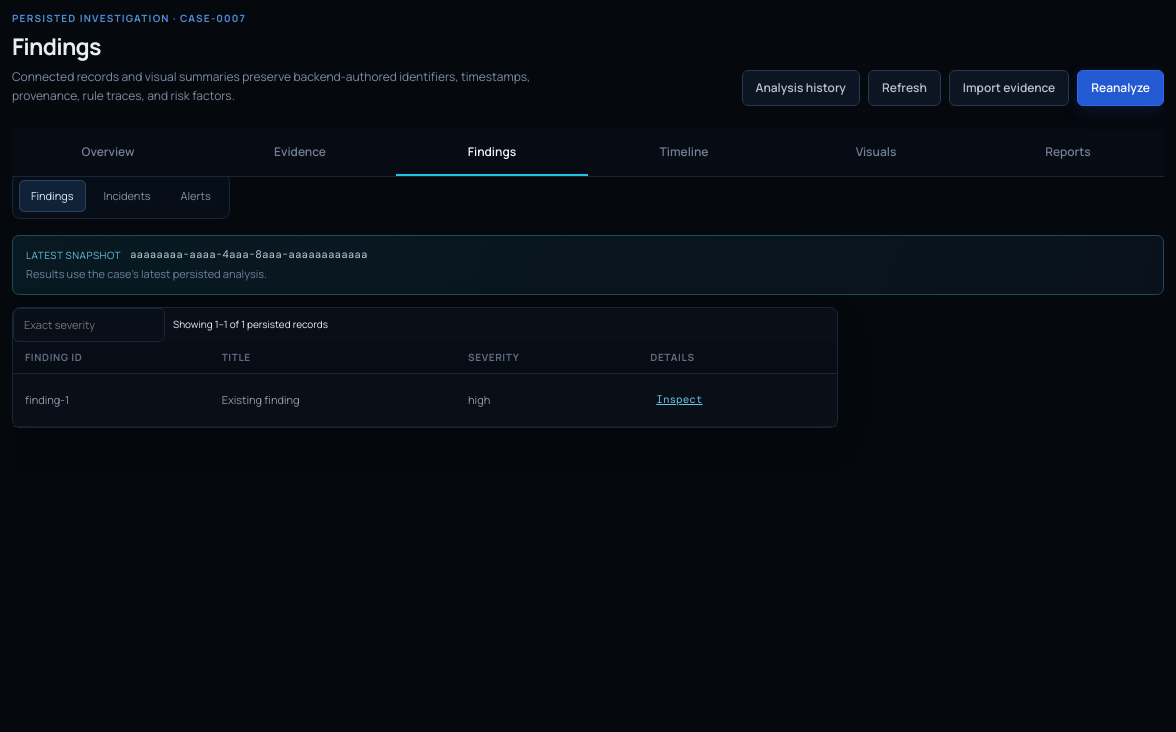
ConnectedCaseWorkspaceV3Page › recovers from reanalysis failure without hiding current results
Check: the text "Existing finding" is shown, box [210, 374, 456, 426]
Click the button "Reanalyze" at (1121, 88), box [1077, 70, 1164, 106]
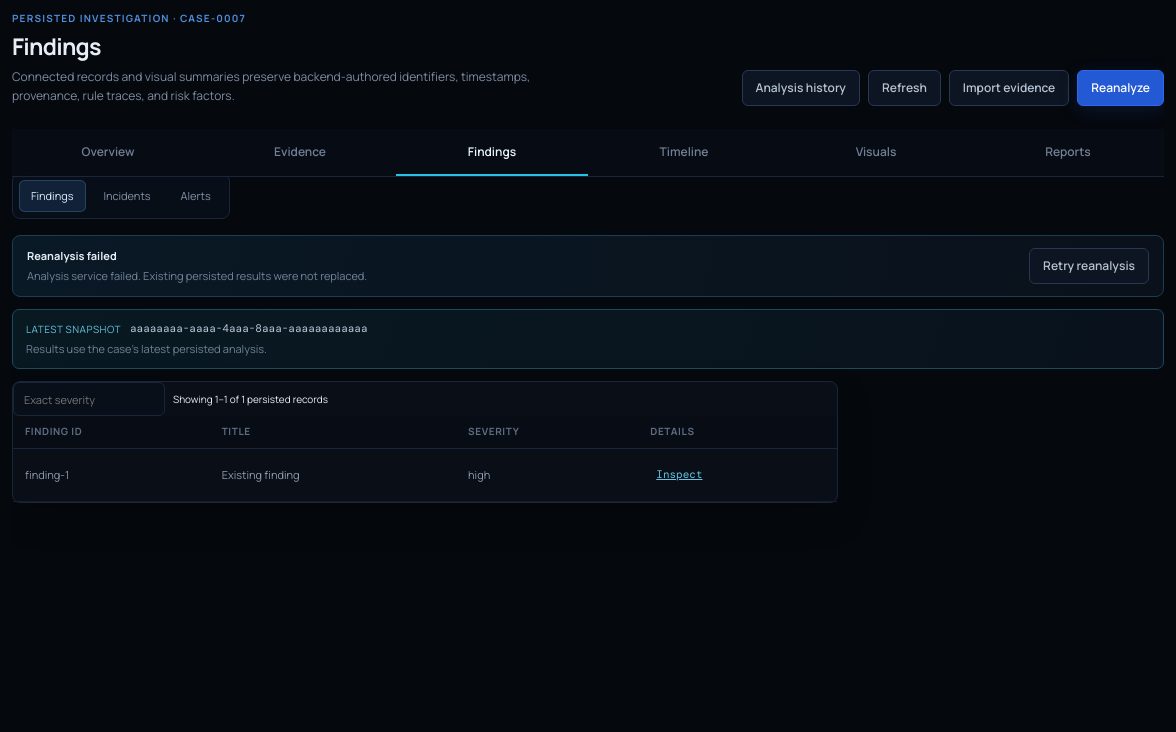
Check: the text "Existing finding" is shown, box [210, 448, 456, 501]
Check: the text "Reanalysis failed" is shown, box [27, 248, 117, 262]
